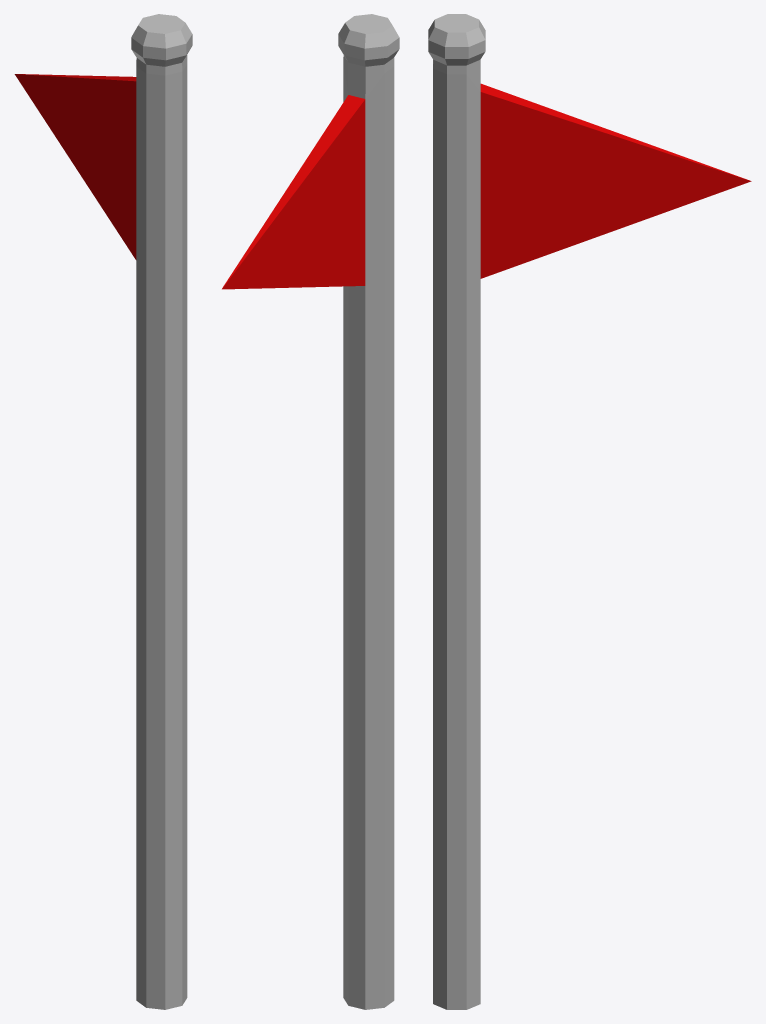
Rendered from drapeau.fbx.
3 renders of one model, left to right at view 1: azimuth 30°, elevation 25°; view 2: azimuth 150°, elevation 25°; view 3: azimuth 270°, elevation 25°, orthographic.
Parts seen in each view (by area): view 1: Cylindre.021; view 2: Cylindre.021; view 3: Cylindre.021.
Boxes of the visible parts, bbox=[...] form: Cylindre.021: bbox=[14, 14, 192, 1009]; Cylindre.021: bbox=[222, 14, 399, 1009]; Cylindre.021: bbox=[428, 14, 751, 1009].
Size of the model in its own units: 44.35 by 835 by 251.
